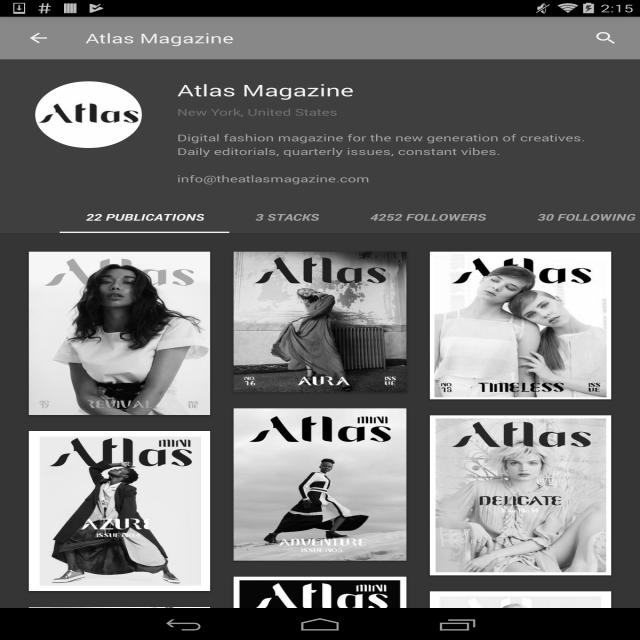ImageButton: (9, 17, 68, 59)
ImageView: (29, 252, 210, 415), (29, 431, 210, 591), (430, 416, 611, 576), (430, 252, 611, 399), (234, 408, 406, 561), (234, 252, 406, 392), (233, 576, 406, 640), (430, 591, 611, 640), (35, 81, 142, 148), (29, 607, 210, 640), (580, 22, 632, 54)
TextView: (177, 131, 619, 188), (177, 82, 354, 100), (85, 29, 234, 47), (177, 107, 338, 118), (85, 211, 204, 223), (370, 211, 486, 223), (537, 211, 635, 223), (255, 211, 319, 223)
